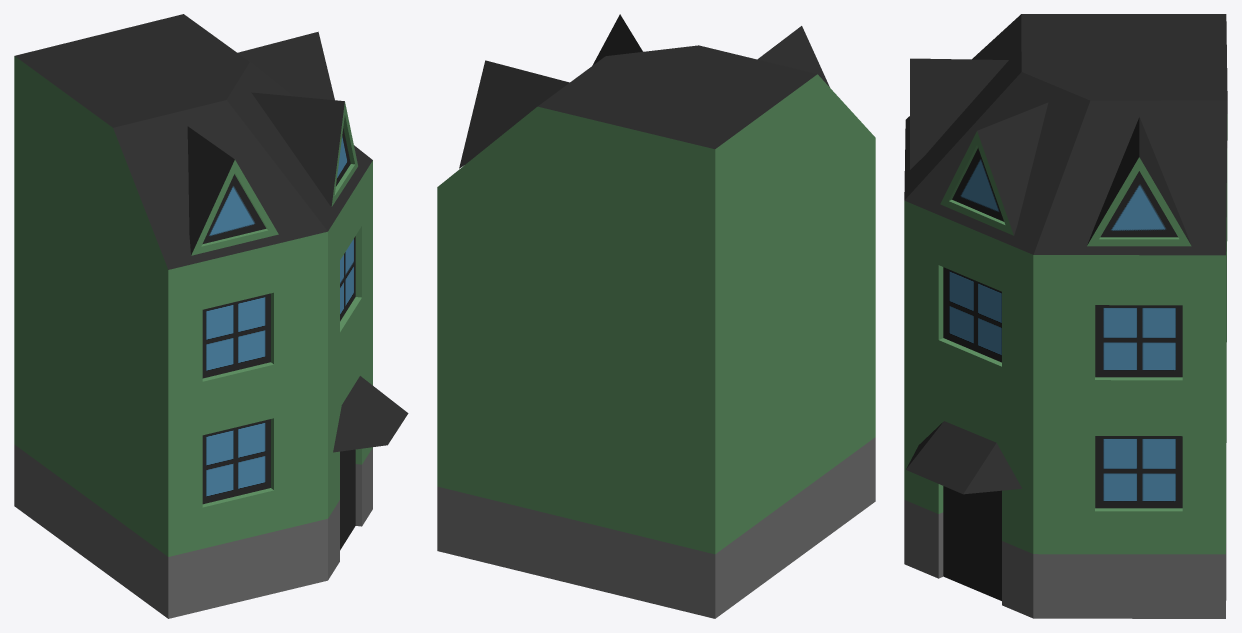
Rendered from CornerTriangleGreen.obj.
3 renders of one model, left to right at view 1: azimuth 30°, elevation 25°; view 2: azimuth 150°, elevation 25°; view 3: azimuth 270°, elevation 25°, orthographic. The views are drawn at different scales.
Parts seen in each view (by area): view 1: naroznikTrojkatZielony; view 2: naroznikTrojkatZielony; view 3: naroznikTrojkatZielony.
Boxes of the visible parts, x1,y1,x2,y2 form: naroznikTrojkatZielony: (14,14,408,618); naroznikTrojkatZielony: (437,14,875,618); naroznikTrojkatZielony: (904,14,1227,618).
Bounding box in the file's own units: 5.02 × 8.07 × 5.03.
